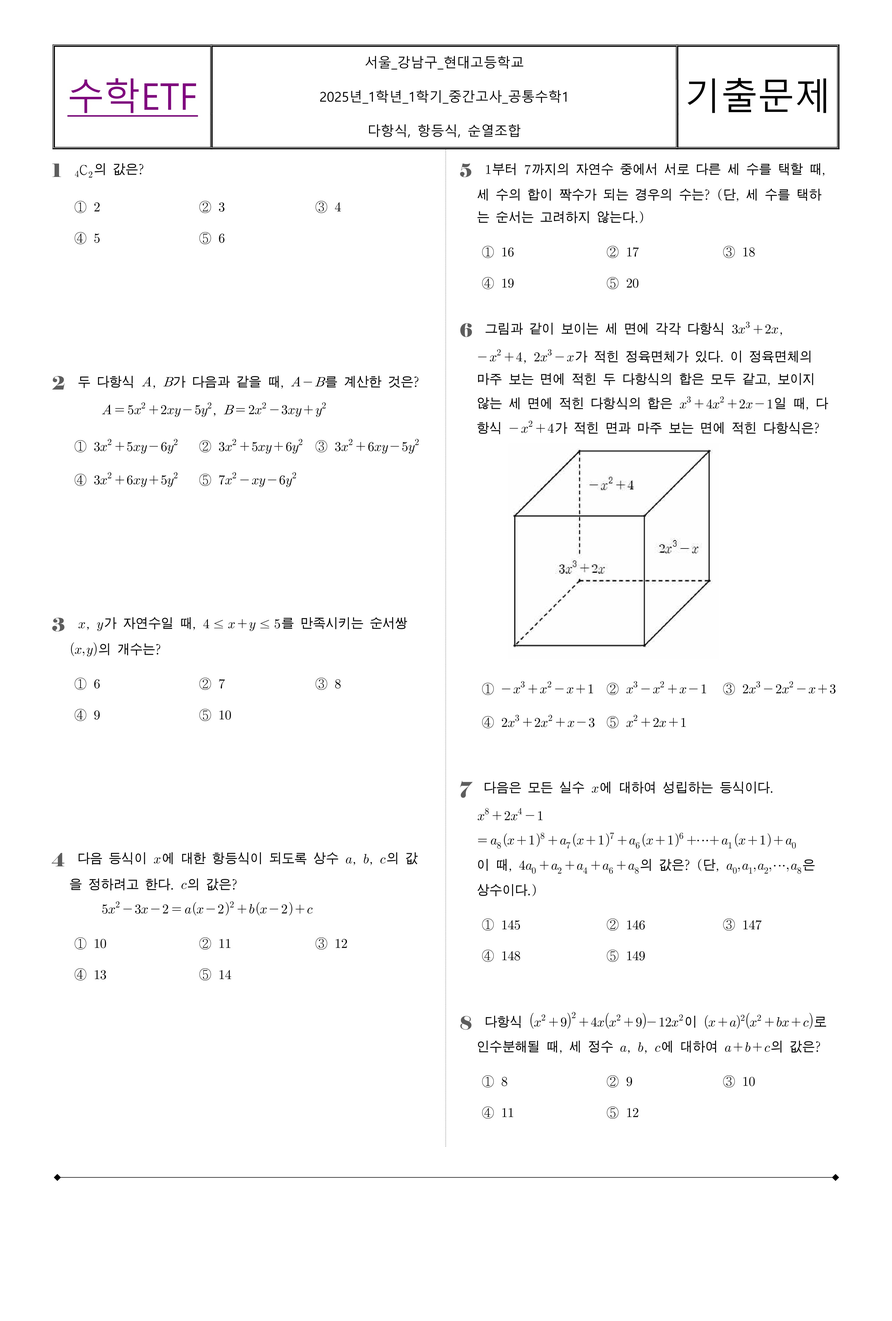problem: (449, 309, 854, 740), (455, 767, 826, 976), (37, 826, 429, 1000), (456, 993, 846, 1140), (42, 359, 432, 505), (459, 154, 842, 295), (40, 603, 432, 734), (49, 157, 438, 253)
